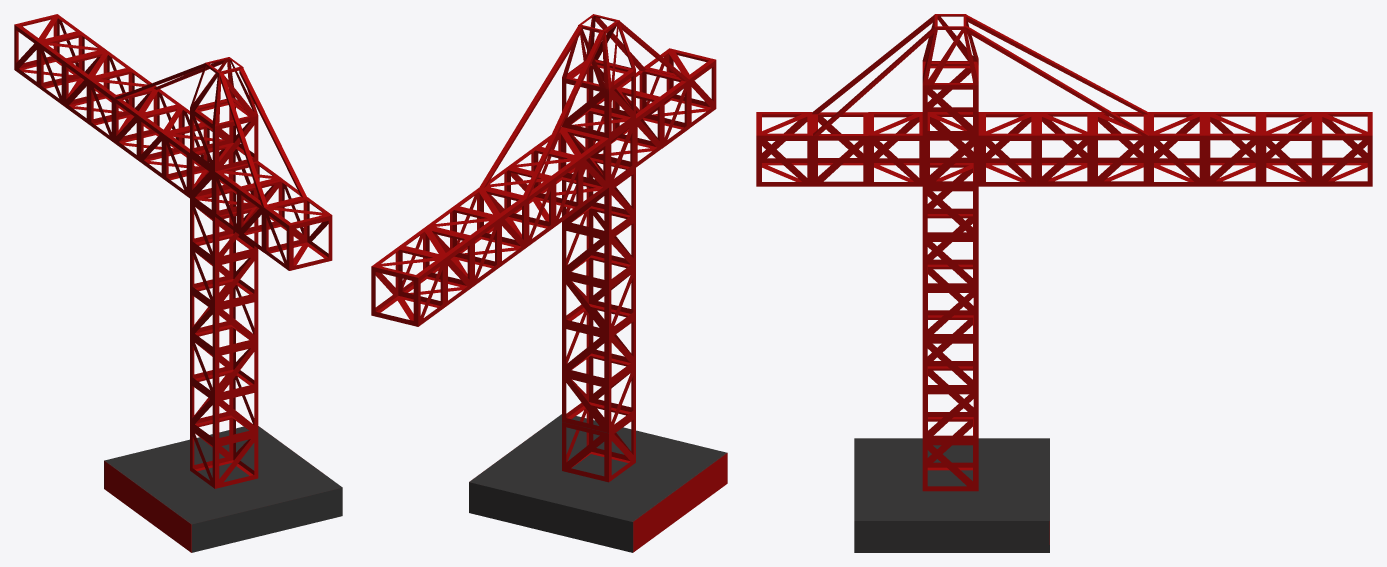
File: Crane.fbx
3 renders of one model, left to right at view 1: azimuth 30°, elevation 25°; view 2: azimuth 150°, elevation 25°; view 3: azimuth 270°, elevation 25°, orthographic. The views are drawn at different scales.
Visible parts, largest first — view 1: Crane; view 2: Crane; view 3: Crane.
Boxes of the visible parts, x1,y1,x2,y2 form: Crane: (14,14,342,552); Crane: (371,14,727,552); Crane: (756,14,1372,552).
Size of the model in its own units: 2.68 by 7.41 by 8.44.
